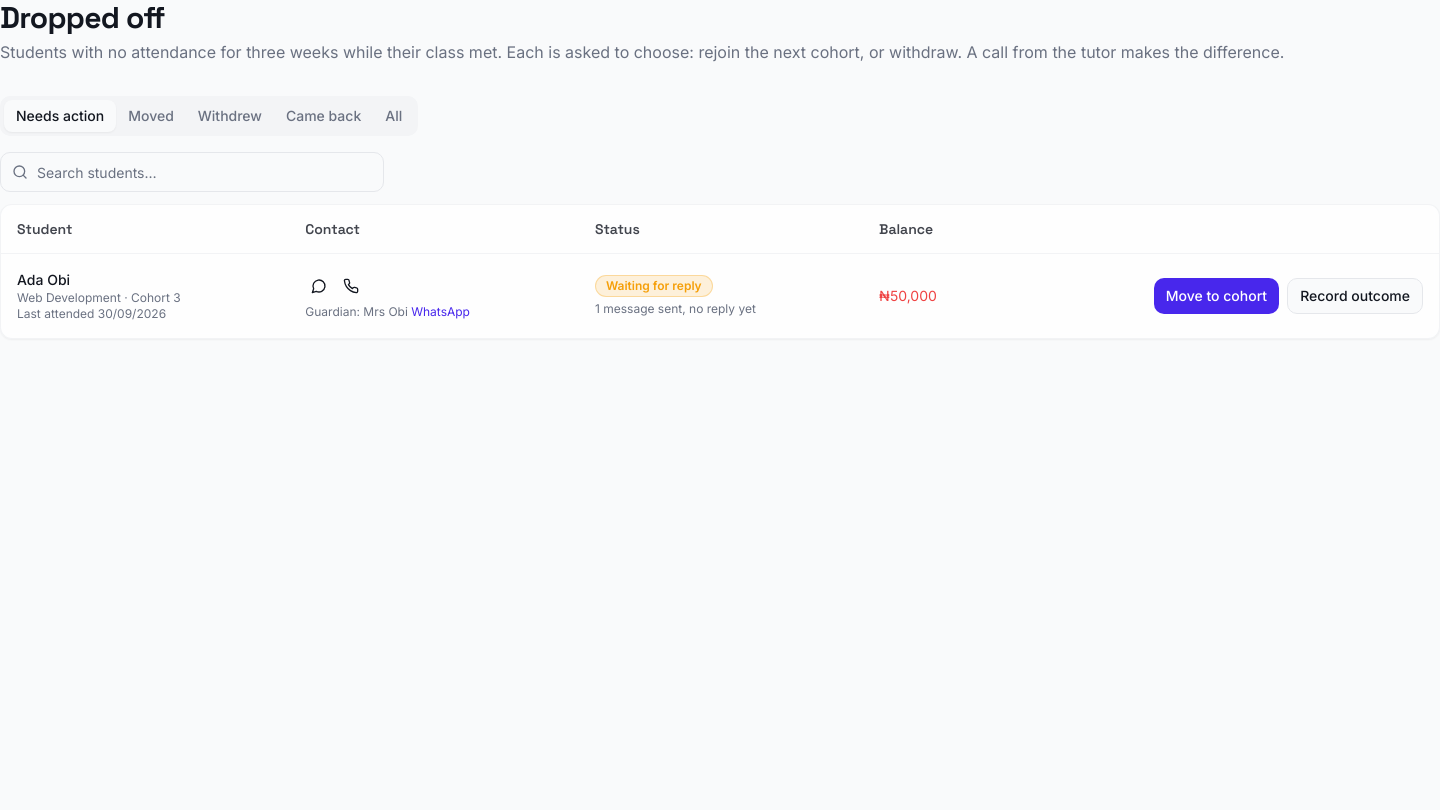
DropoutsPage › needs a note to record an outcome
Later steps or results of the test are not shown.
Click the button "Record outcome".
click(1355, 296)  # box [1287, 278, 1423, 314]
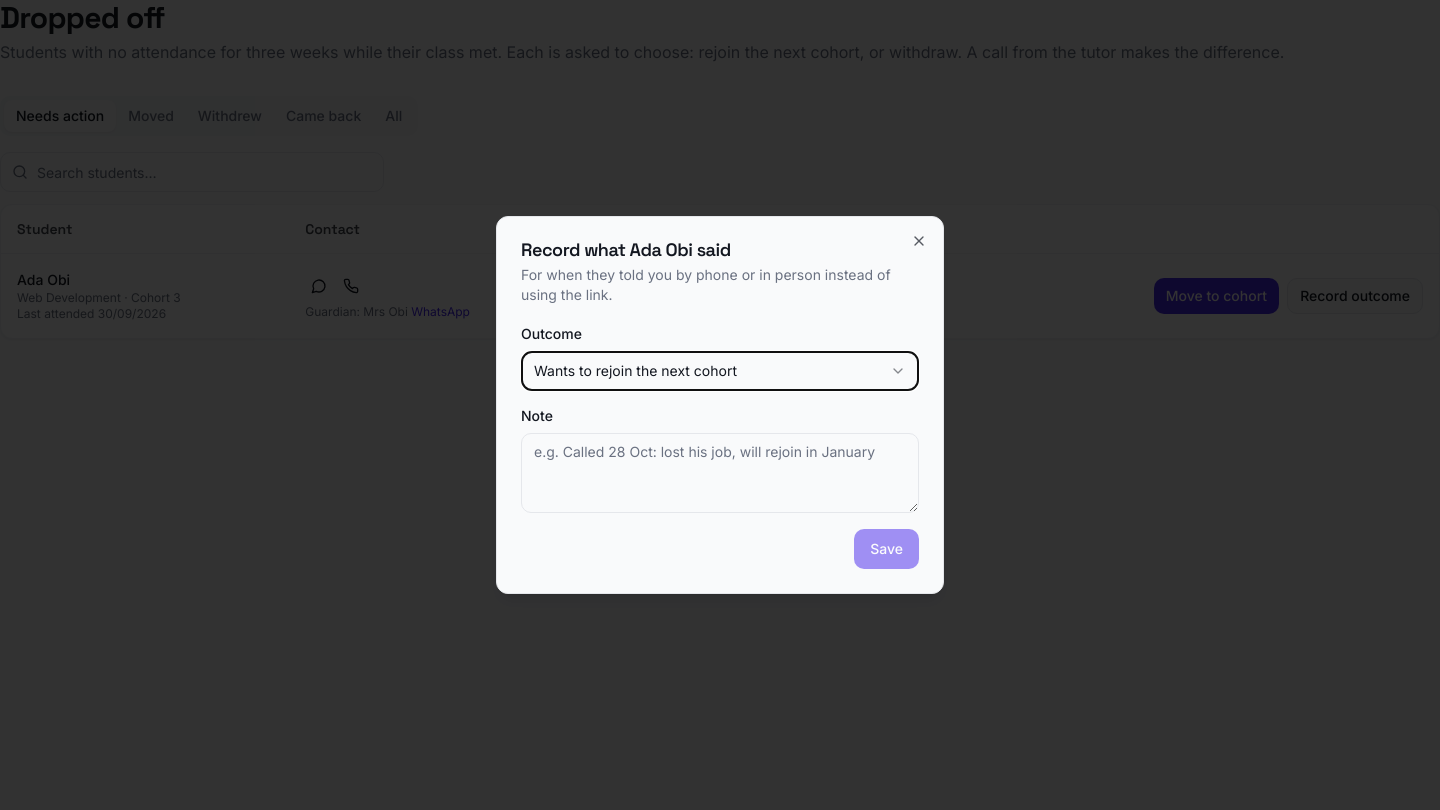
Expected: the button "Save" is disabled, [854, 529, 919, 569]
